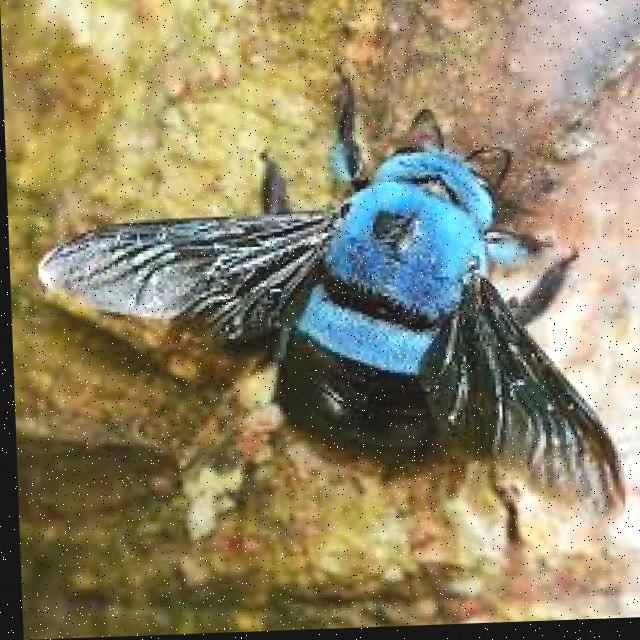Xylocopa: (49, 97, 640, 541)
